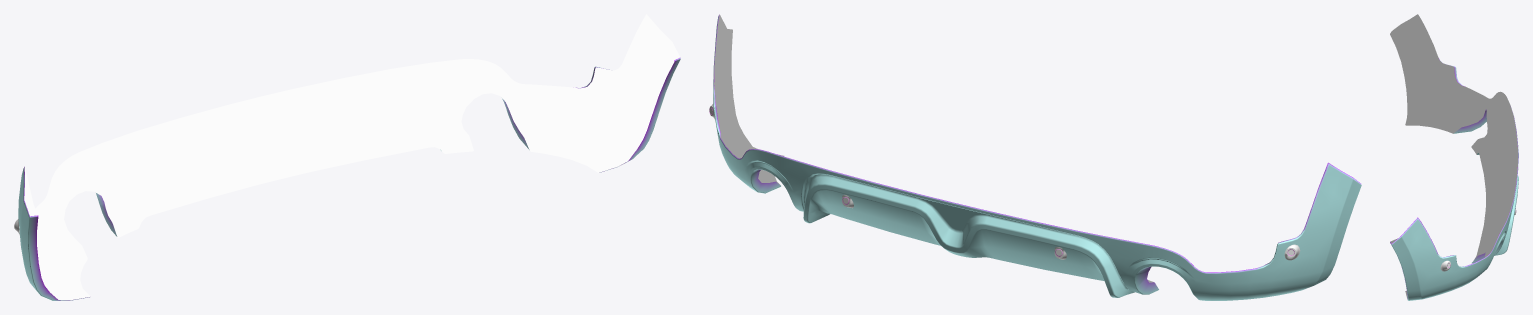
The model's file is Car_Mini_CountrymanJCW_2017_Diffuser_SetA_AltG.fbx.
The picture shows the model from 3 angles, left to right: view 1: azimuth 30°, elevation 25°; view 2: azimuth 150°, elevation 25°; view 3: azimuth 270°, elevation 25°; orthographic projection. The views are drawn at different scales.
Visible parts, largest first — view 1: Diffuser 6; view 2: Diffuser 6; view 3: Diffuser 6.
Part boxes in pixels (x1,y1,x2,y2): Diffuser 6: (14,14,680,300); Diffuser 6: (709,14,1361,300); Diffuser 6: (1390,14,1518,300).
Bounding box in the file's own units: 1.74 × 0.3544 × 0.4448.
